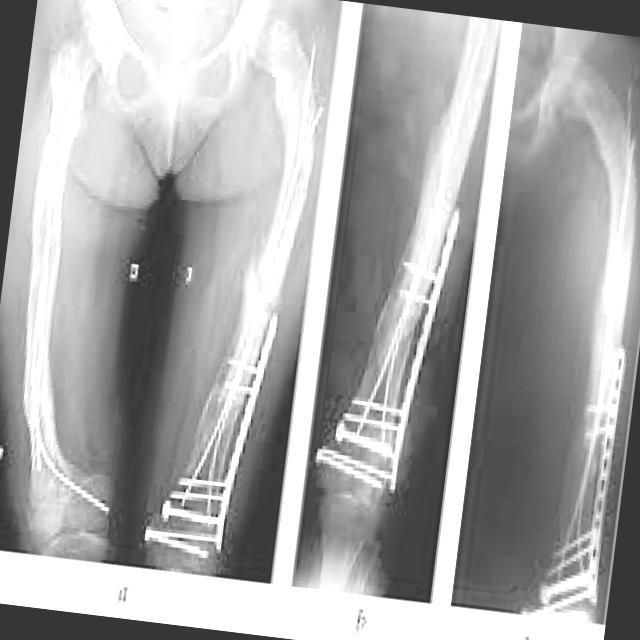Comminuted Fracture: (581, 284, 639, 362), (239, 248, 294, 329)
